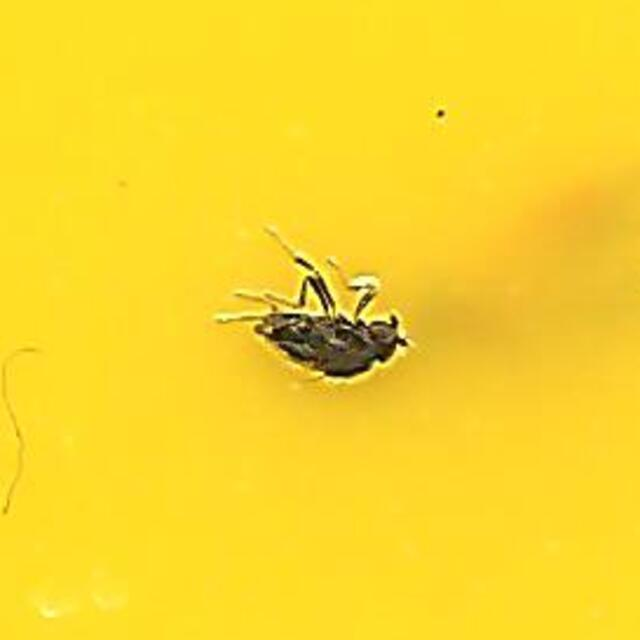Brachycera: (234, 251, 406, 389)
